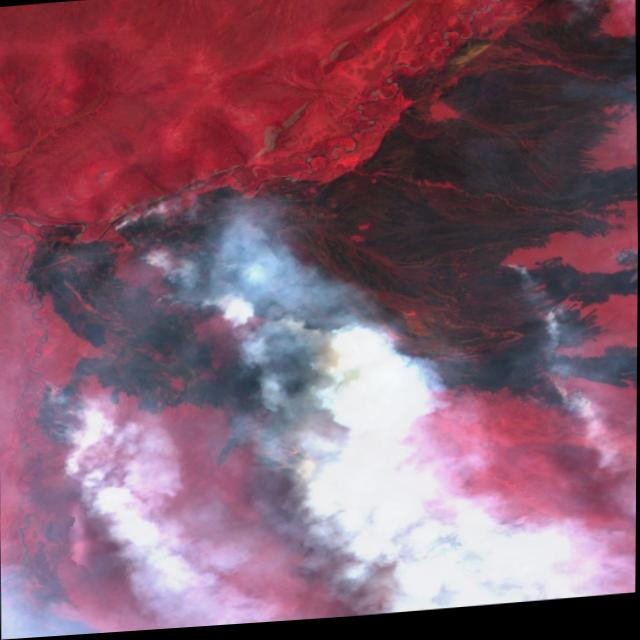fire: (15, 190, 395, 516)
